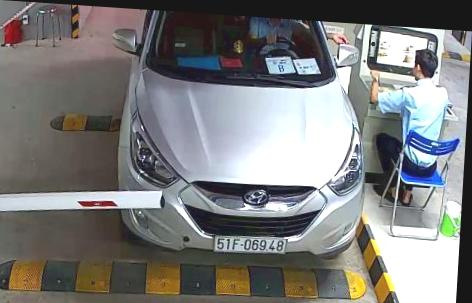License_Plate: (213, 233, 289, 255)
